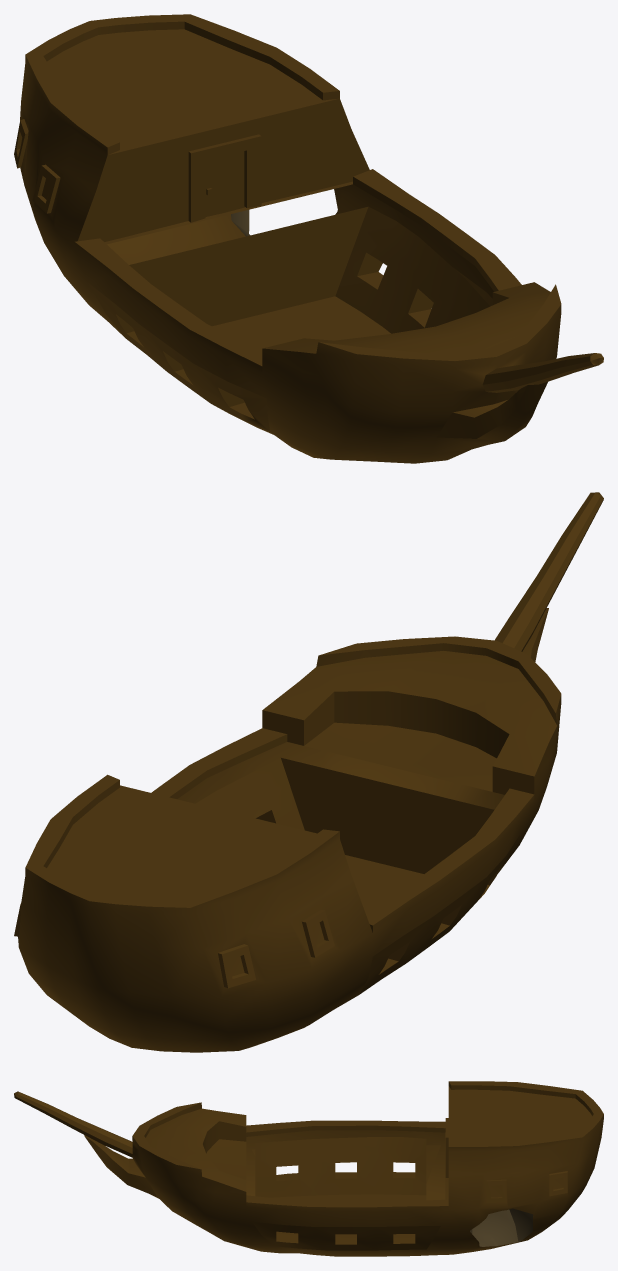
File: RigthBrokenShip.fbx
3 views of the same model, one above another, from view 1: azimuth 30°, elevation 25°; view 2: azimuth 150°, elevation 25°; view 3: azimuth 270°, elevation 25° (orthographic). The views are drawn at different scales.
Parts seen in each view (by area): view 1: MainShipBody002; view 2: MainShipBody002; view 3: MainShipBody002.
Boxes of the visible parts, <box> form: MainShipBody002: <box>14,14,603,463</box>; MainShipBody002: <box>14,492,603,1052</box>; MainShipBody002: <box>14,1081,603,1256</box>.
Size of the model in its own units: 507 by 1461 by 381.
